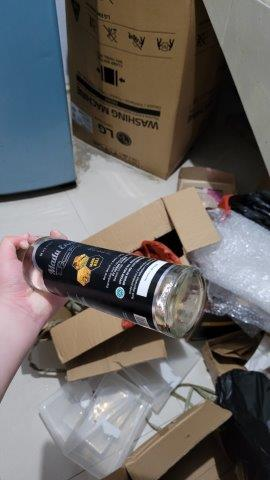botolkaca: (7, 237, 205, 338)
